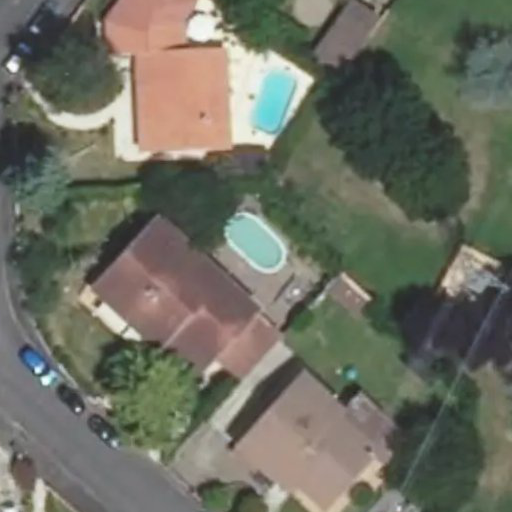pool: (219, 232, 292, 251)
